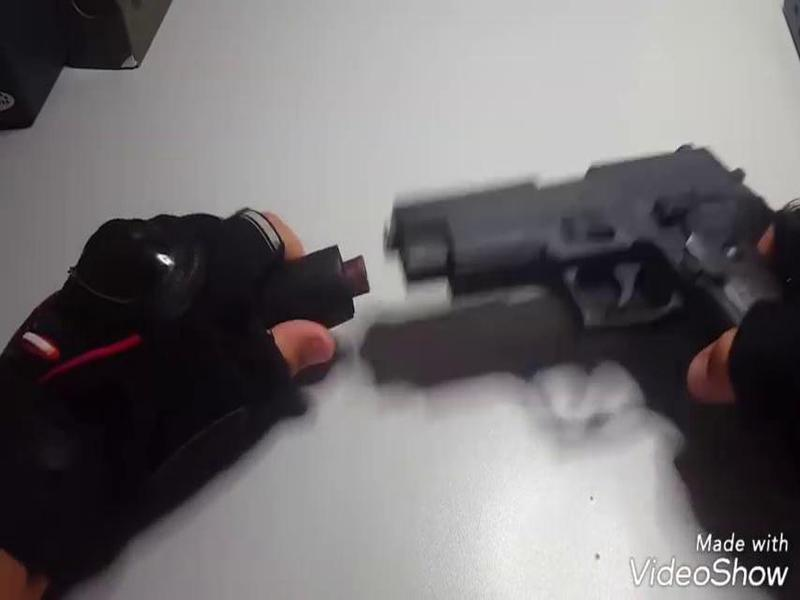Pistola: (377, 132, 800, 369)
